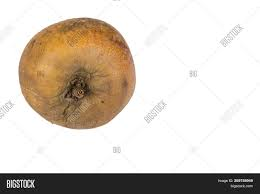damaged_apple: (19, 17, 135, 131)
